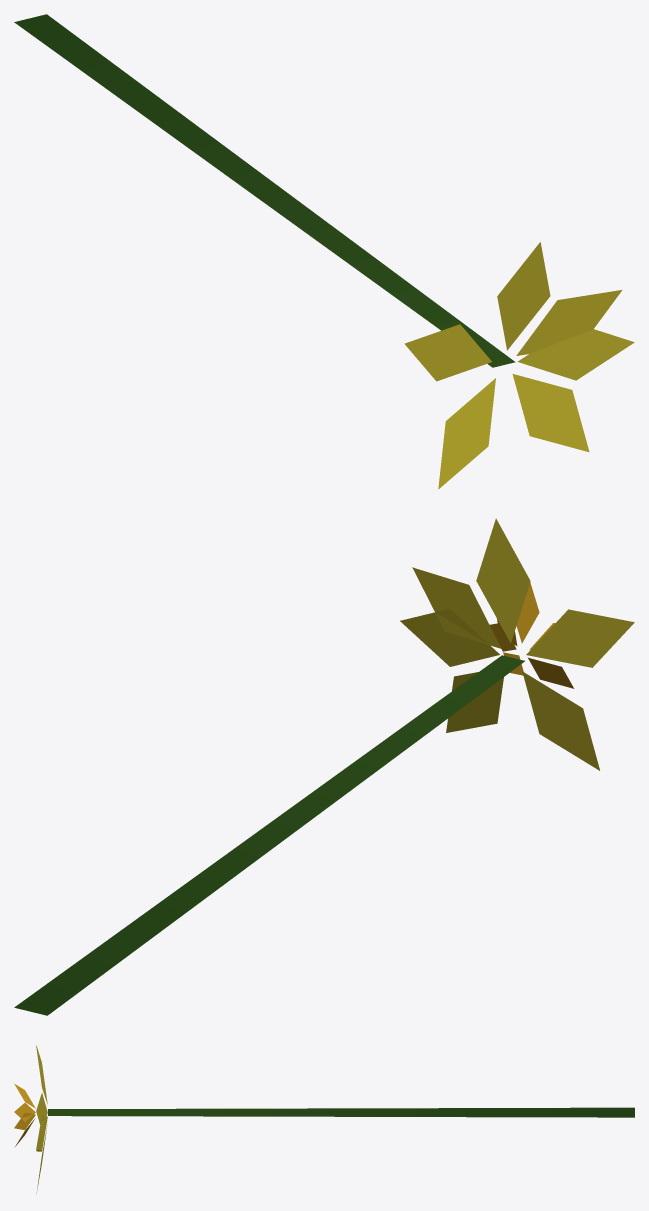
The model's file is Flower_Daffodil.glb.
3 views of the same model, one above another, from view 1: azimuth 30°, elevation 25°; view 2: azimuth 150°, elevation 25°; view 3: azimuth 270°, elevation 25° (orthographic). The views are drawn at different scales.
Visible parts, largest first — view 1: Flower_Daffodil; view 2: Flower_Daffodil; view 3: Flower_Daffodil.
Part boxes in pixels (left/top/right/bottom): Flower_Daffodil: left=14, top=14, right=634, bottom=489; Flower_Daffodil: left=14, top=518, right=634, bottom=1015; Flower_Daffodil: left=14, top=1045, right=634, bottom=1194.
Size of the model in its own units: 0.0422 by 0.039 by 0.1586.
